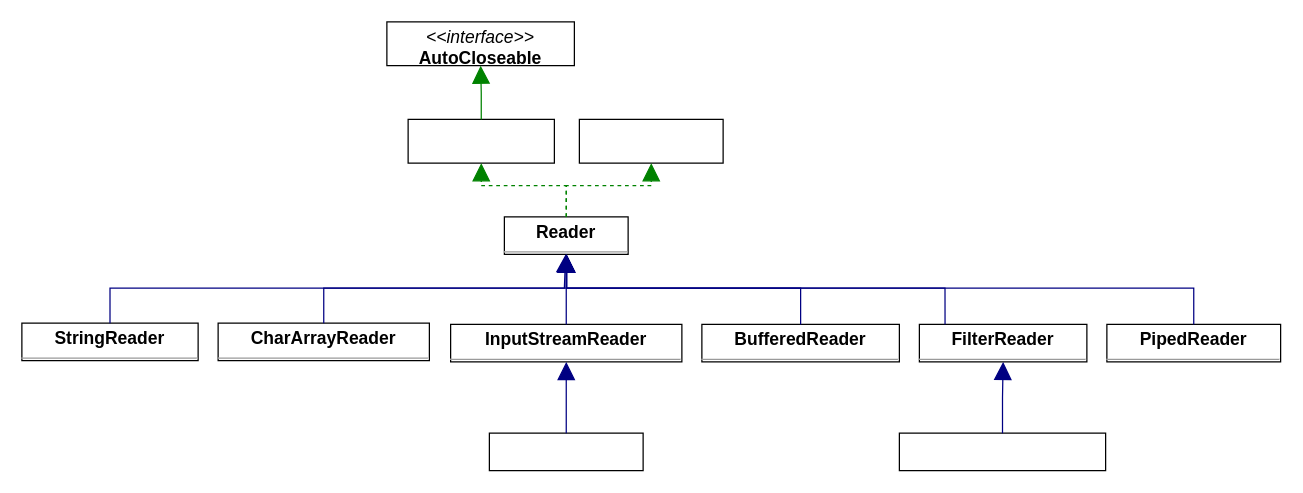
This 1303x493 diagram has some shape labels left out. Here are the shapes that lost their labels. From the top down, the centre of each, then its label:
(480,140): <<interface>> Closeable
(650,140): <<interface>> Readable
(565,451): FileReader
(1002,451): PushbackReader
